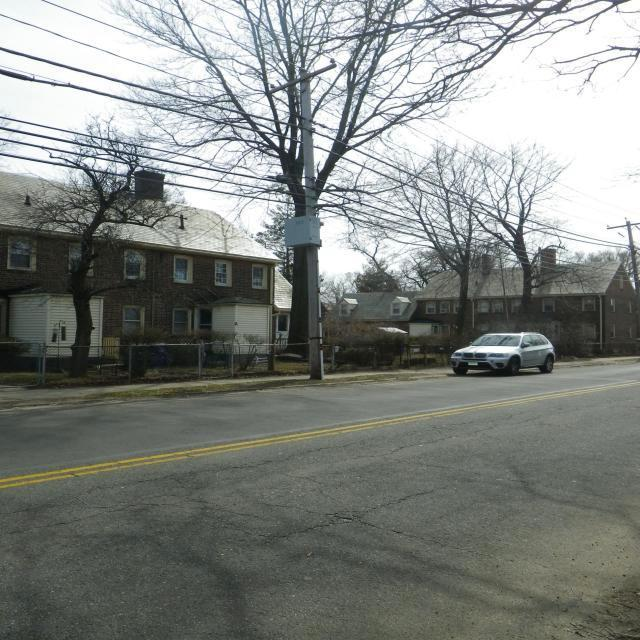pole: (299, 57, 325, 380)
transformer: (284, 216, 323, 247)
wire: (0, 46, 630, 247), (0, 68, 630, 250), (40, 0, 538, 205), (0, 126, 616, 272), (134, 0, 573, 202), (0, 138, 587, 272), (199, 0, 586, 197), (0, 13, 431, 180), (0, 152, 580, 276), (0, 115, 421, 216)
